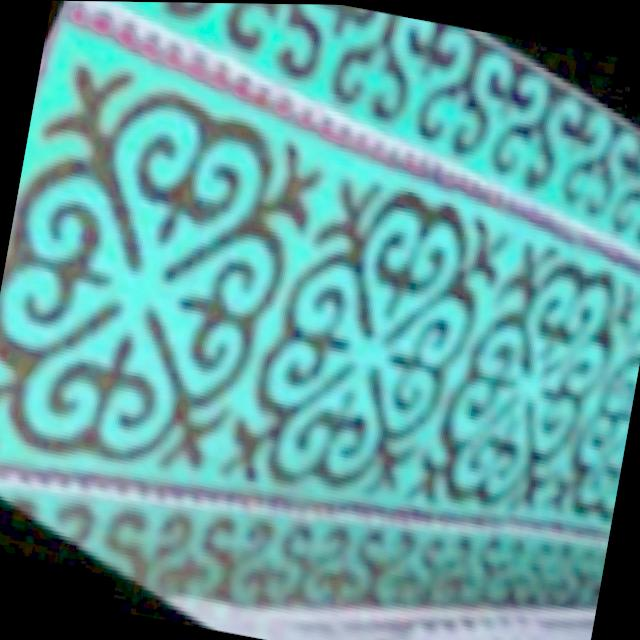Unity: (0, 38, 340, 487), (204, 151, 528, 507), (392, 230, 640, 522)
